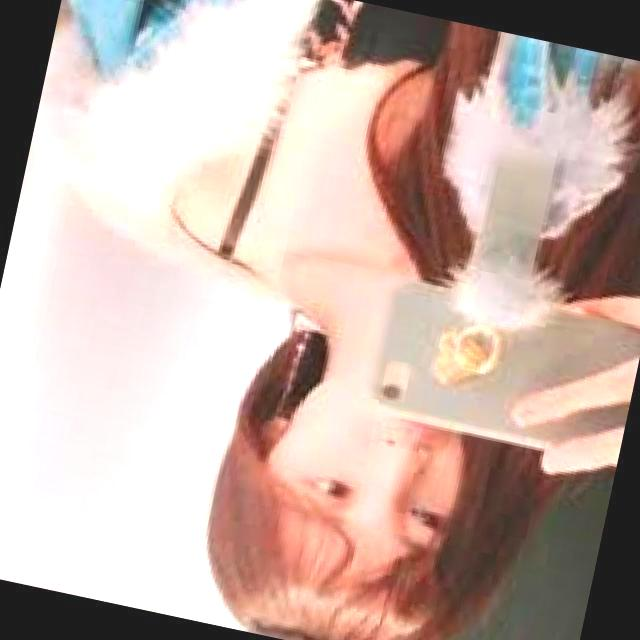lens: (380, 379, 404, 406)
phone: (361, 278, 640, 455)
